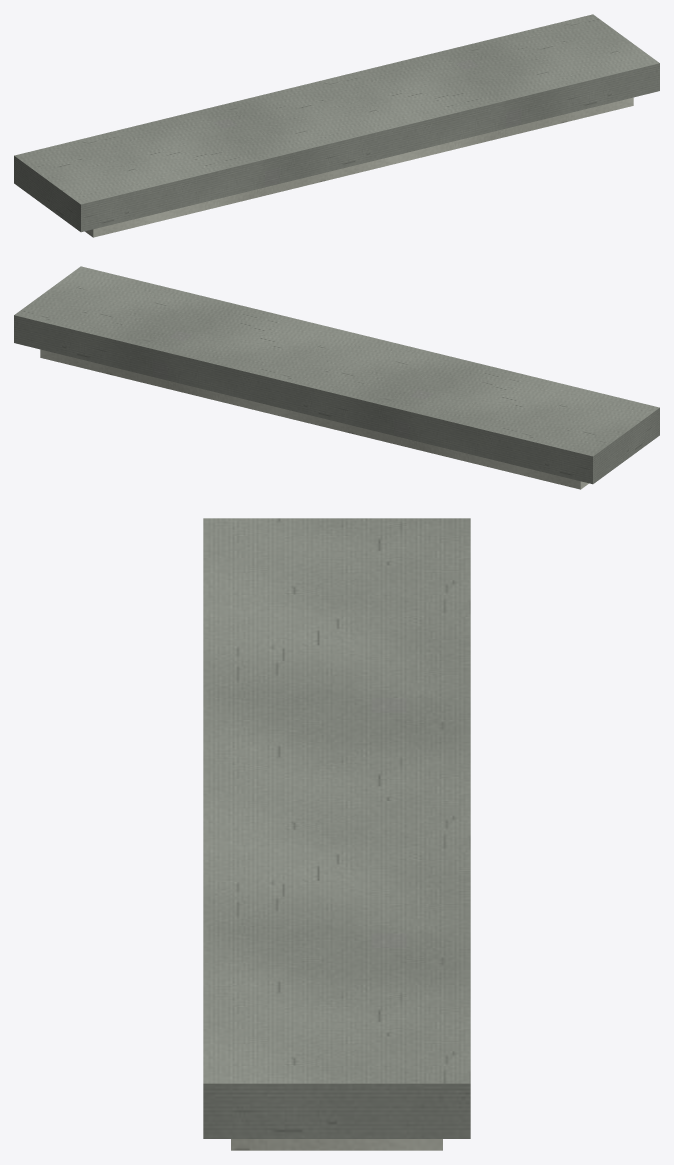
File: fluoro_v3.glb
3 renders of one model, top to bottom at view 1: azimuth 30°, elevation 25°; view 2: azimuth 150°, elevation 25°; view 3: azimuth 270°, elevation 25°, orthographic. The views are drawn at different scales.
Visible parts, largest first — view 1: Variant_fluoro_3; view 2: Variant_fluoro_3; view 3: Variant_fluoro_3.
Boxes of the visible parts, x1,y1,x2,y2 form: Variant_fluoro_3: [14, 14, 659, 237]; Variant_fluoro_3: [14, 266, 659, 489]; Variant_fluoro_3: [203, 518, 470, 1150].
Size of the model in its own units: 1.2 by 0.085 by 0.24.
2 materials, 2 textured.
